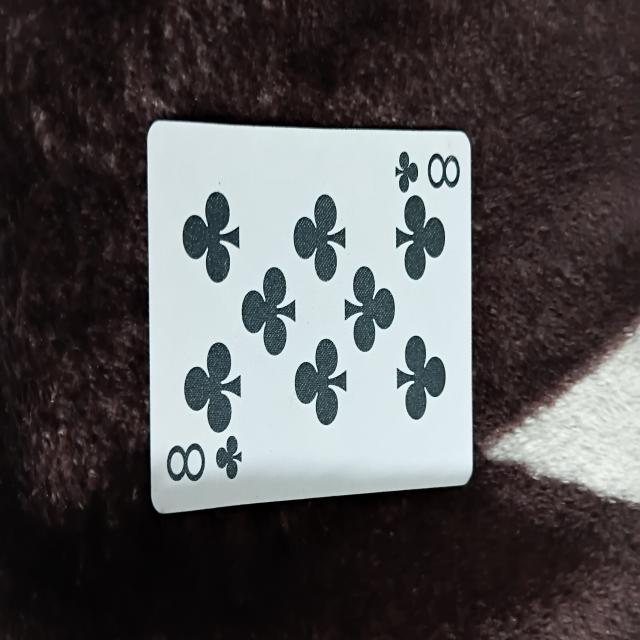8C: (148, 113, 472, 488)
